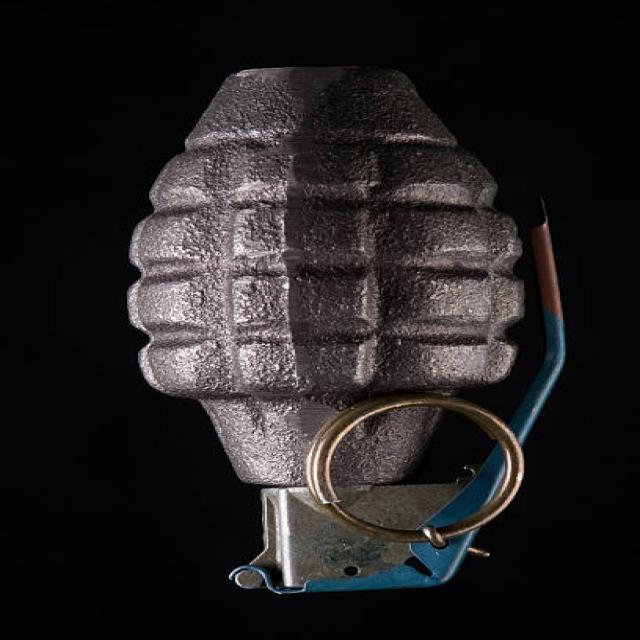grenade: (105, 56, 574, 607)
